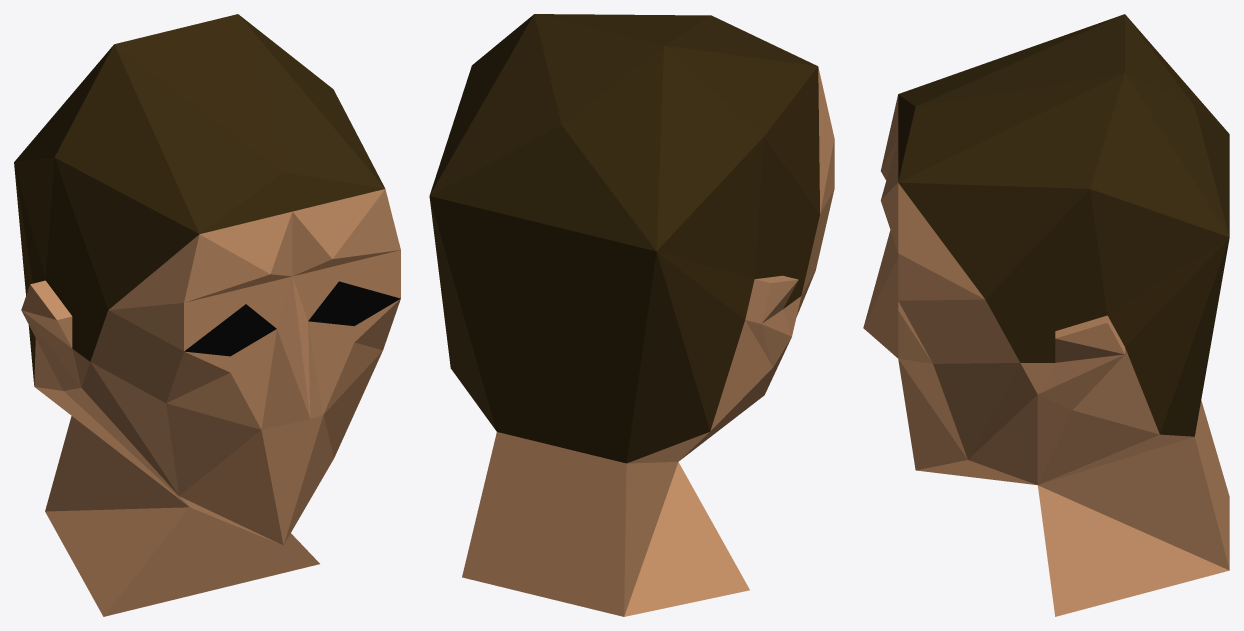
Rendered from model_391_idk.obj.
3 renders of one model, left to right at view 1: azimuth 30°, elevation 25°; view 2: azimuth 150°, elevation 25°; view 3: azimuth 270°, elevation 25°, orthographic. The views are drawn at different scales.
Visible parts, largest first — view 1: 391; view 2: 391; view 3: 391.
Boxes of the visible parts, x1,y1,x2,y2 form: 391: [14, 14, 400, 616]; 391: [429, 14, 834, 616]; 391: [863, 14, 1229, 616].
Size of the model in its own units: 20 by 33 by 21.
